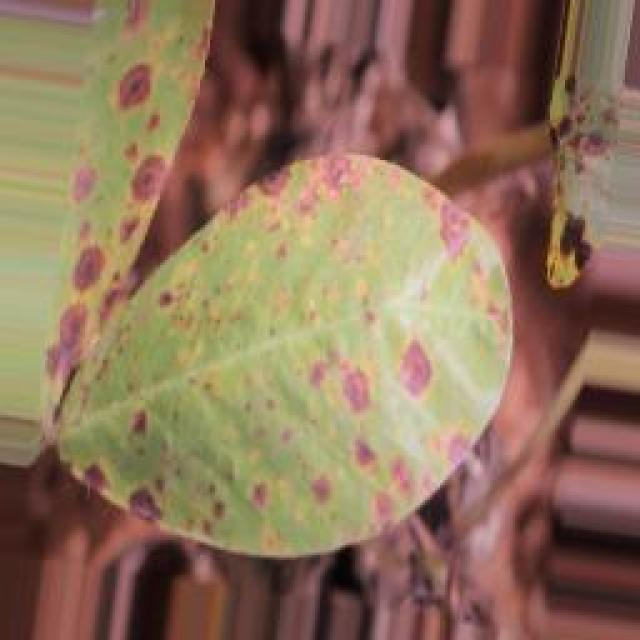Yellowish: (44, 18, 601, 554)
